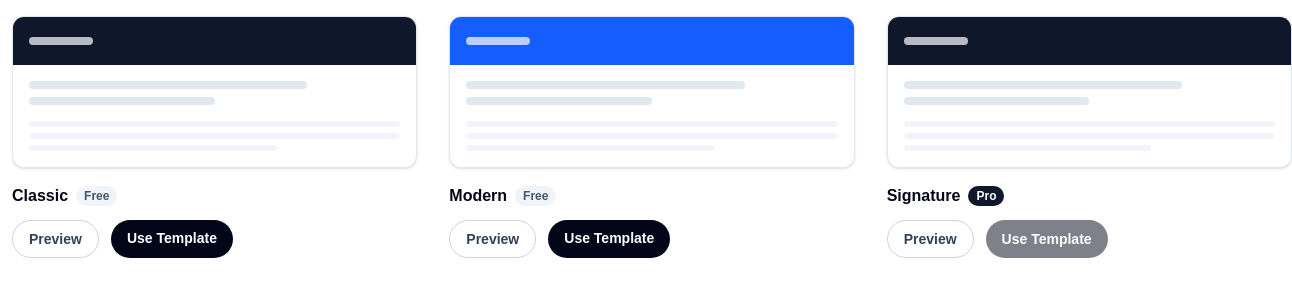
Test: TemplatesGallery › blocks Use Template on a premium template and shows an upgrade message instead of a link
Check: the heading "Signature" is shown, box [887, 184, 960, 208]
Click the button "Use Template". click: (1047, 239)
box: [986, 220, 1108, 258]
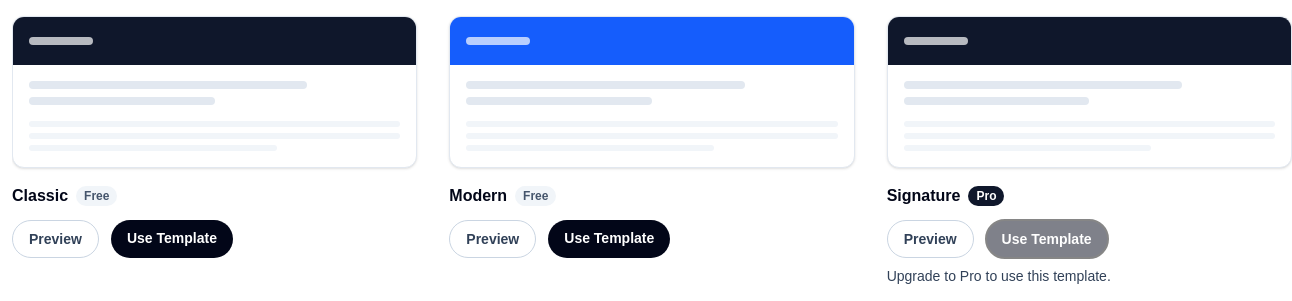
Check: the message reads "Upgrade to Pro to use this template.", box [887, 268, 1111, 284]
